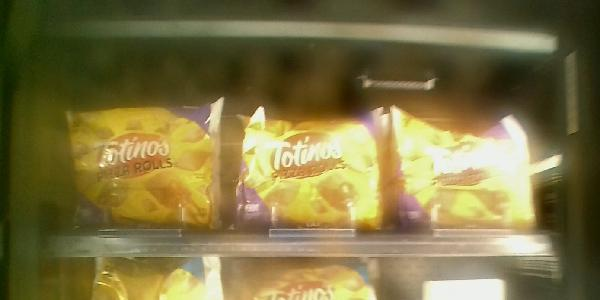icecream: (59, 96, 225, 235), (392, 103, 546, 240), (235, 102, 393, 232)
